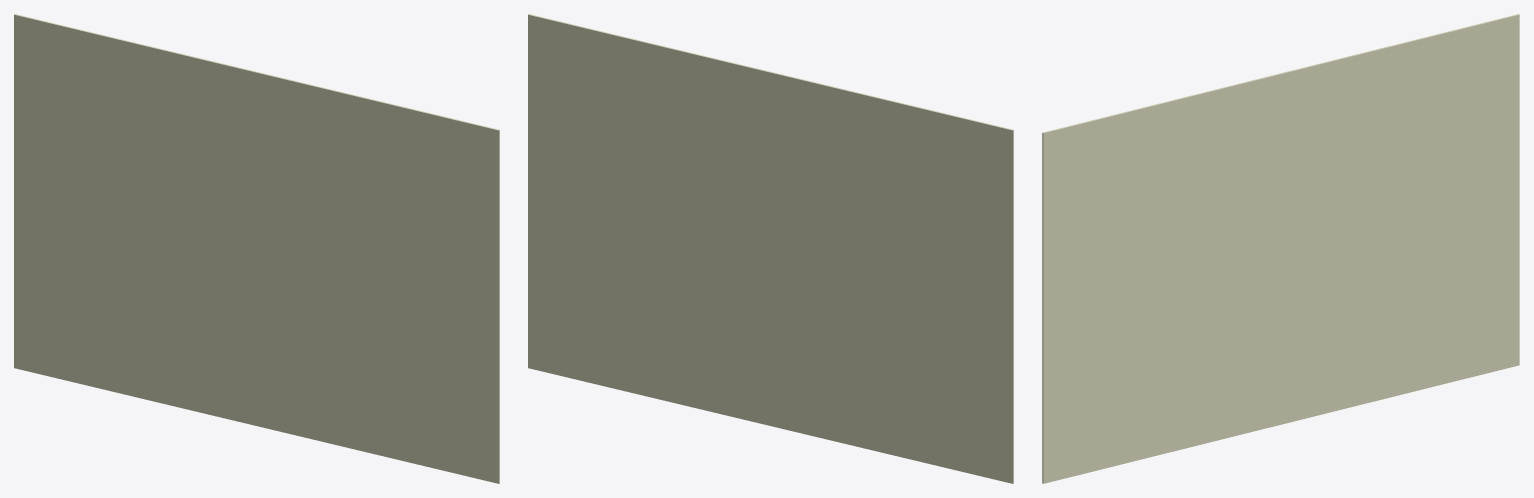
3 renders of one model, left to right at view 1: azimuth 30°, elevation 25°; view 2: azimuth 210°, elevation 25°; view 3: azimuth 270°, elevation 25°, orthographic.
Visible parts, largest first — view 1: Площина.001; view 2: Площина.001; view 3: Площина.001.
Boxes of the visible parts, x1,y1,x2,y2 form: Площина.001: [14, 14, 499, 483]; Площина.001: [528, 14, 1013, 483]; Площина.001: [1042, 14, 1519, 483].
Size of the model in its own units: 6.21 by 8.51 by 10.5.
